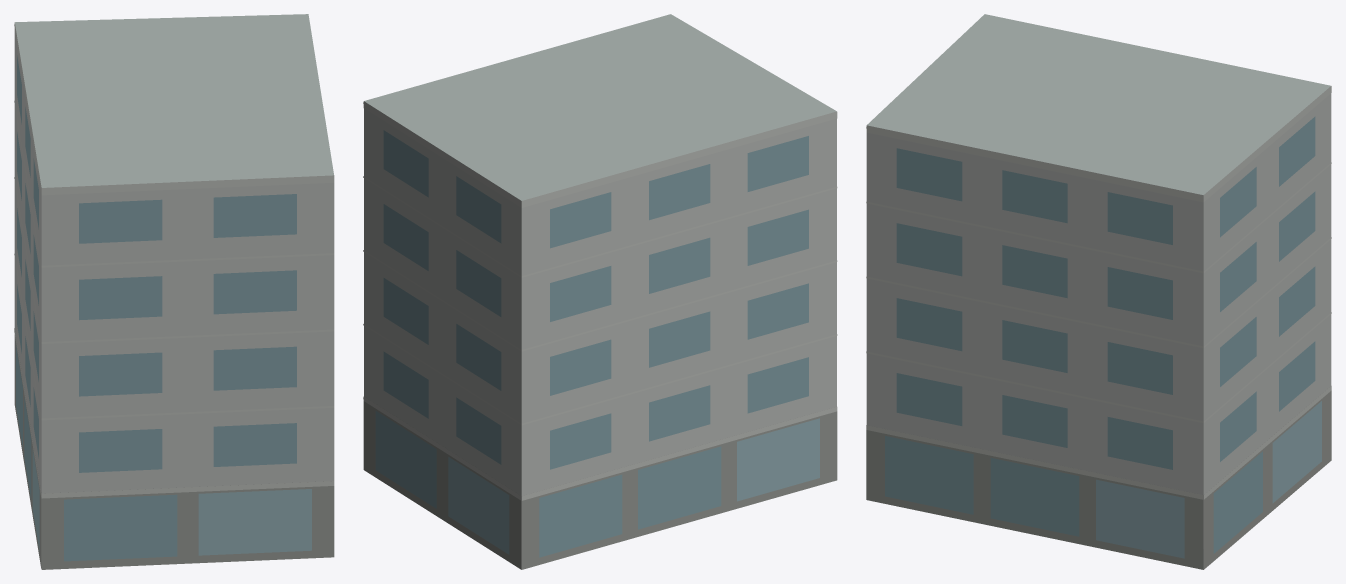
Rendered from survey-upis-32728745.glb.
3 views of the same model, side by side, from view 1: azimuth 30°, elevation 25°; view 2: azimuth 150°, elevation 25°; view 3: azimuth 270°, elevation 25° (orthographic). The views are drawn at different scales.
Parts seen in each view (by area): view 1: survey-upis-32728745.tmp; view 2: survey-upis-32728745.tmp; view 3: survey-upis-32728745.tmp.
Boxes of the visible parts, <box> form: survey-upis-32728745.tmp: <box>14,14,334,569</box>; survey-upis-32728745.tmp: <box>363,14,837,569</box>; survey-upis-32728745.tmp: <box>866,14,1331,569</box>.
Size of the model in its own units: 13.09 by 12.6 by 14.19.
